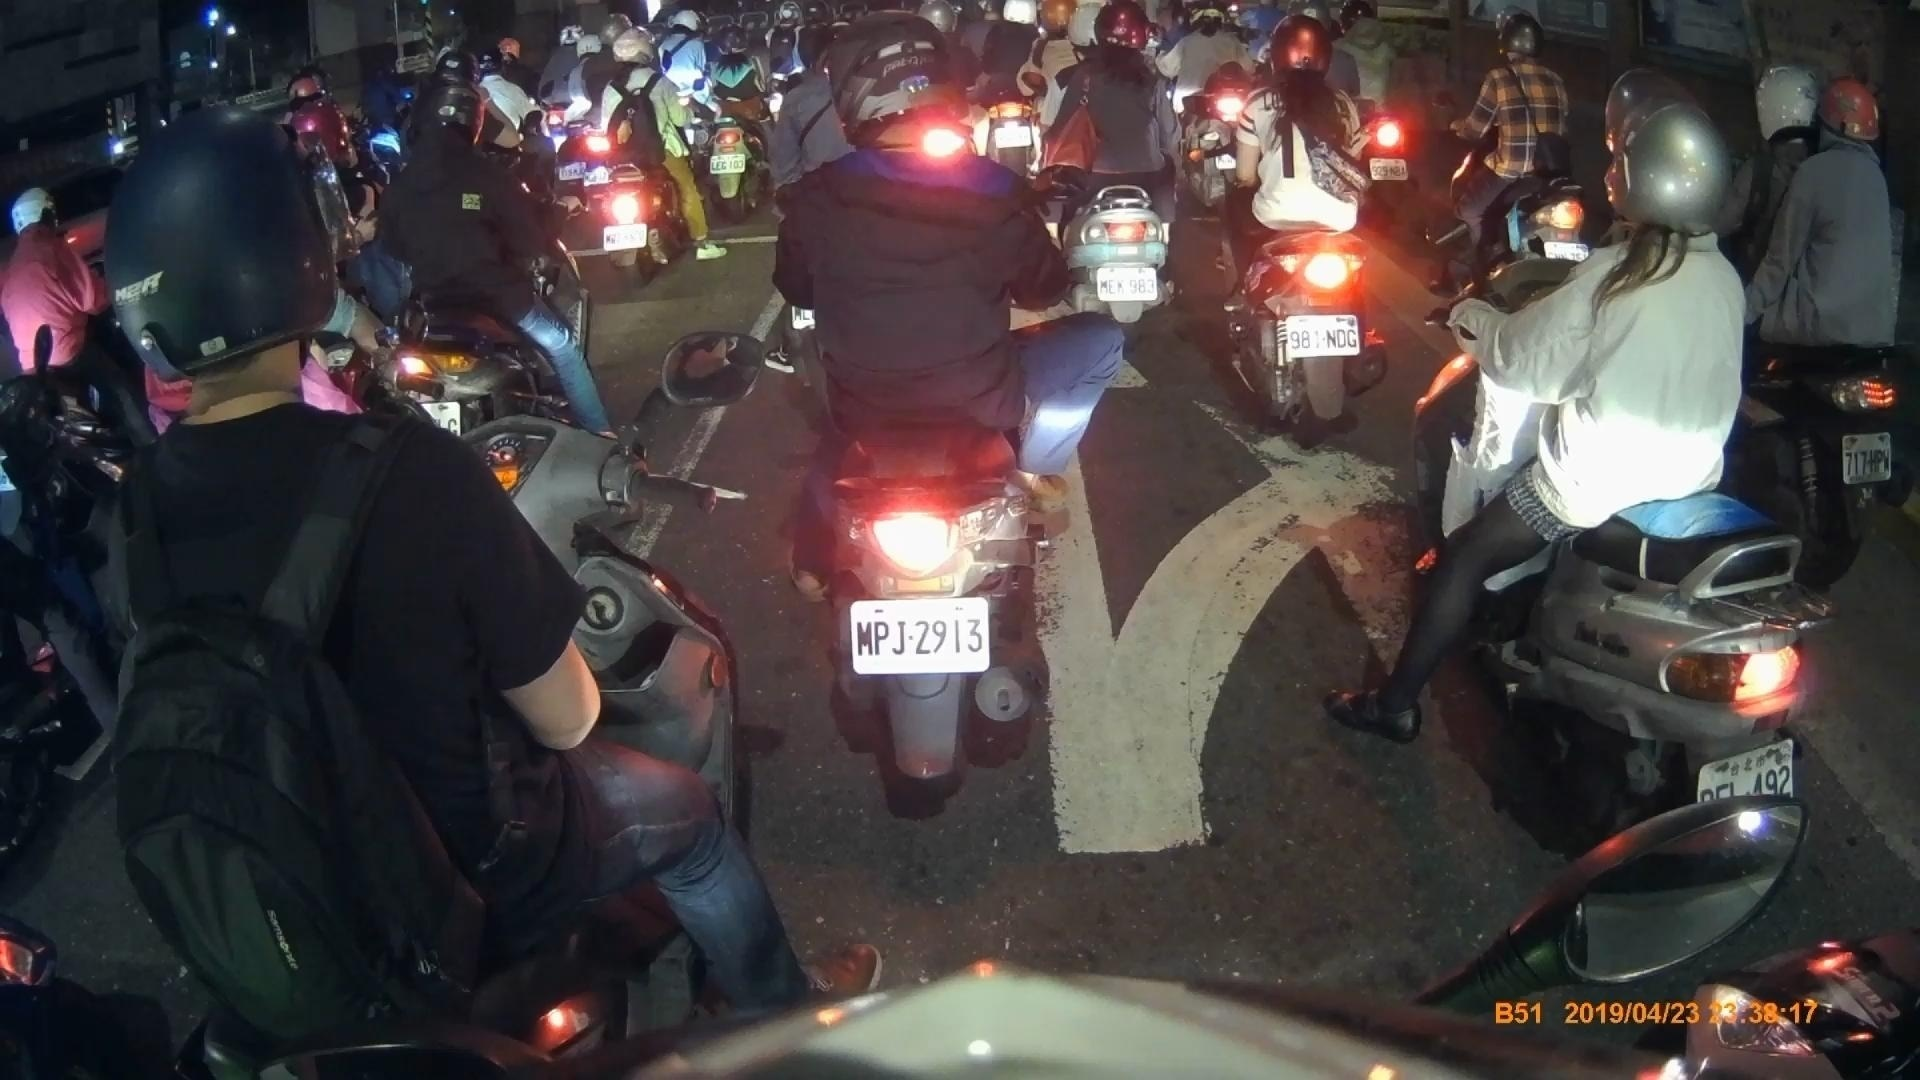License_plate: (847, 598, 990, 673), (1284, 317, 1364, 359), (1097, 267, 1162, 304), (603, 225, 651, 251), (707, 154, 747, 176)
